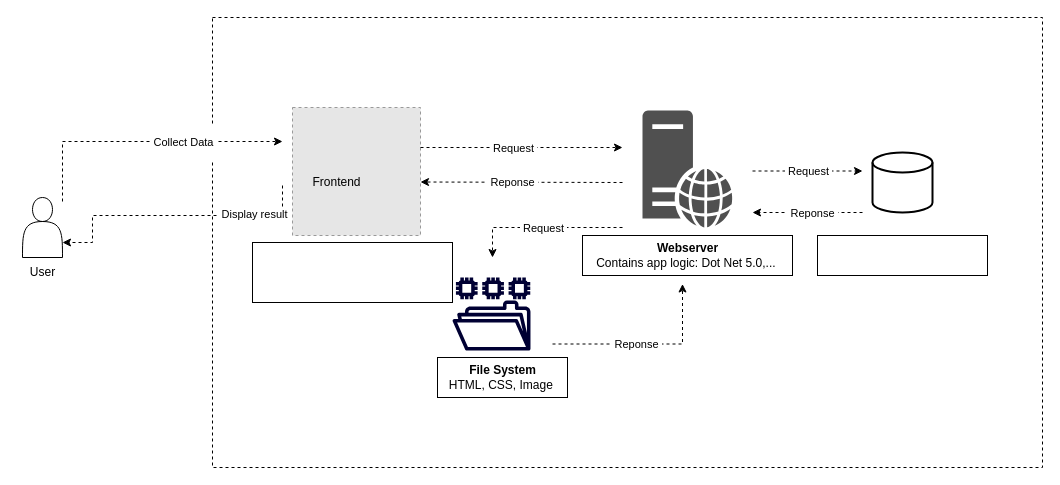
Some shapes in this 1060 by 485 pixel diagram are drawn without their labels. Grey dashed boxes stand in for pictures. Each missing label, with the box of its shape:
Database Microsoft SQL Server 2019: (816, 234, 988, 276)
Front-End What users sees and interact with HTML,CSS,JS,Angular: (252, 242, 452, 302)
